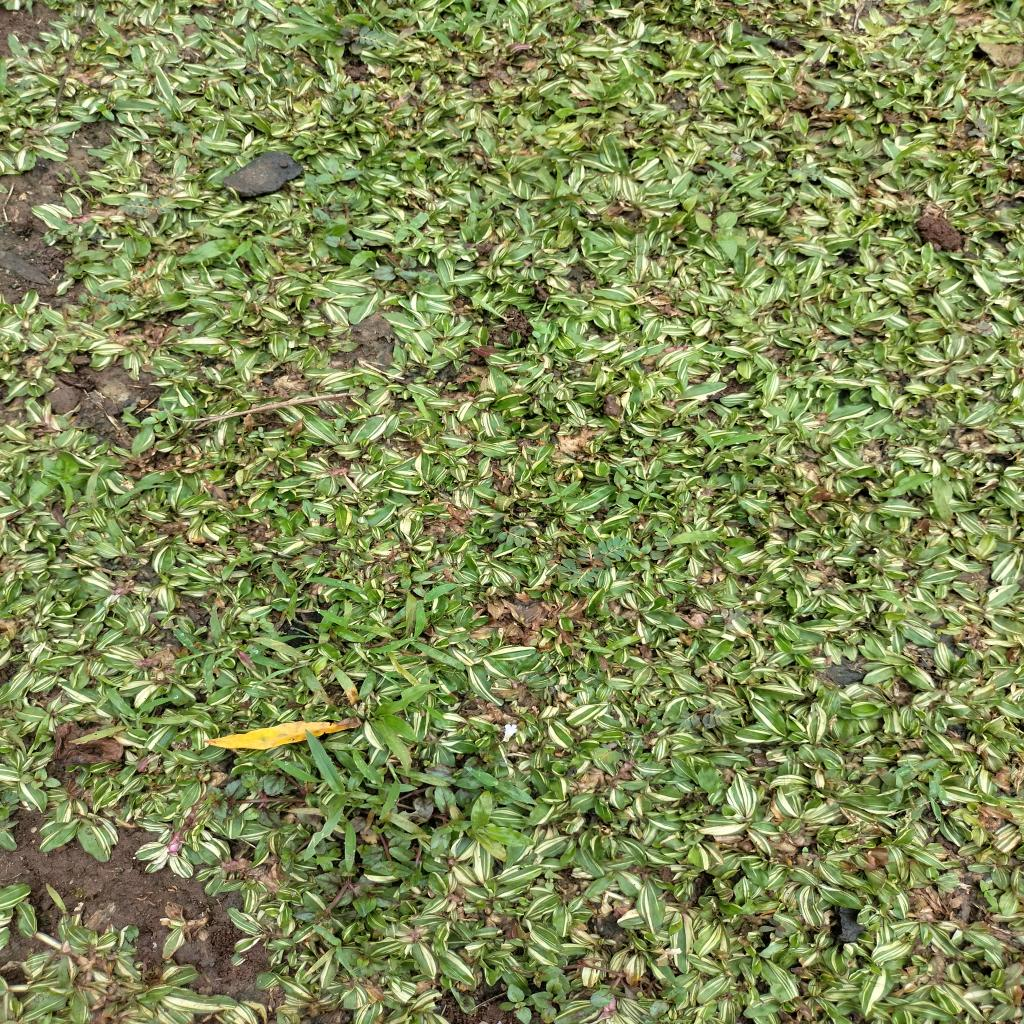buah daun: (553, 534, 639, 592), (483, 508, 538, 549), (676, 698, 733, 735), (118, 195, 185, 225), (332, 22, 390, 54), (78, 288, 138, 318), (682, 167, 726, 202), (650, 525, 689, 560), (760, 911, 792, 941), (965, 114, 999, 142), (975, 317, 997, 341)
rambat atas: (274, 728, 432, 859), (270, 606, 430, 655), (874, 752, 952, 824), (308, 915, 372, 975), (690, 418, 767, 462), (112, 694, 196, 730), (272, 556, 331, 600), (173, 630, 232, 668), (256, 656, 318, 685)
rambat bawah: (355, 681, 454, 776), (464, 788, 532, 863), (562, 70, 639, 130), (672, 520, 759, 550)
tunggang besar: (691, 208, 746, 263)
ungu tunggang: (500, 949, 669, 1024), (294, 847, 378, 937), (193, 764, 314, 820), (314, 154, 376, 253), (376, 243, 442, 292), (328, 80, 373, 116), (17, 766, 65, 797), (136, 404, 173, 437)
